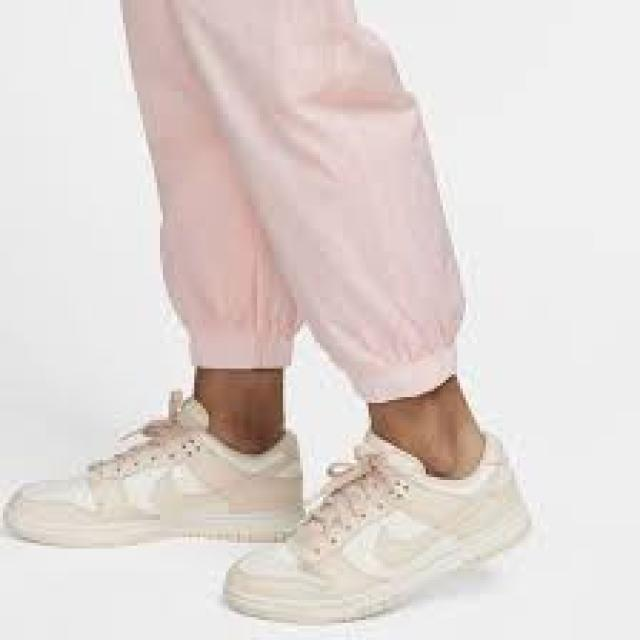shoe: (202, 430, 547, 627), (6, 405, 314, 553)
